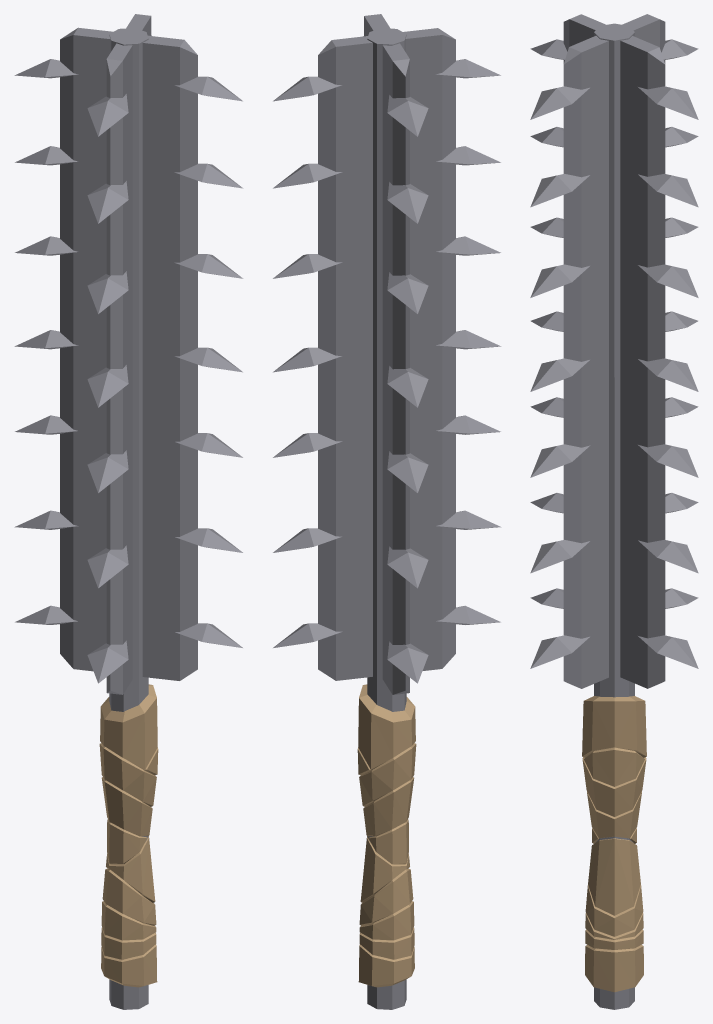
File: _hammer_18.fbx
3 renders of one model, left to right at view 1: azimuth 30°, elevation 25°; view 2: azimuth 150°, elevation 25°; view 3: azimuth 270°, elevation 25°, orthographic.
Visible parts, largest first — view 1: hammer_18; view 2: hammer_18; view 3: hammer_18.
Part boxes in pixels (x1,y1,x2,y2): hammer_18: (14,14,243,1009); hammer_18: (273,14,501,1009); hammer_18: (530,14,698,1009).
Size of the model in its own units: 13.16 by 83.52 by 13.16.
